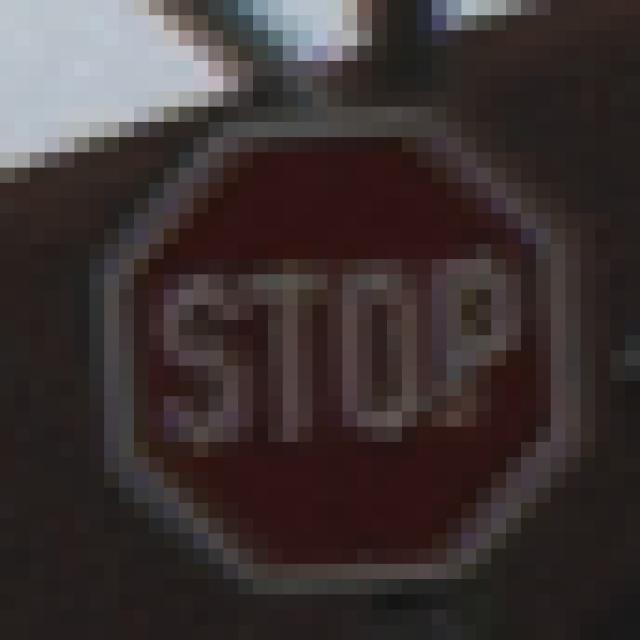STOP: (90, 77, 552, 565)
